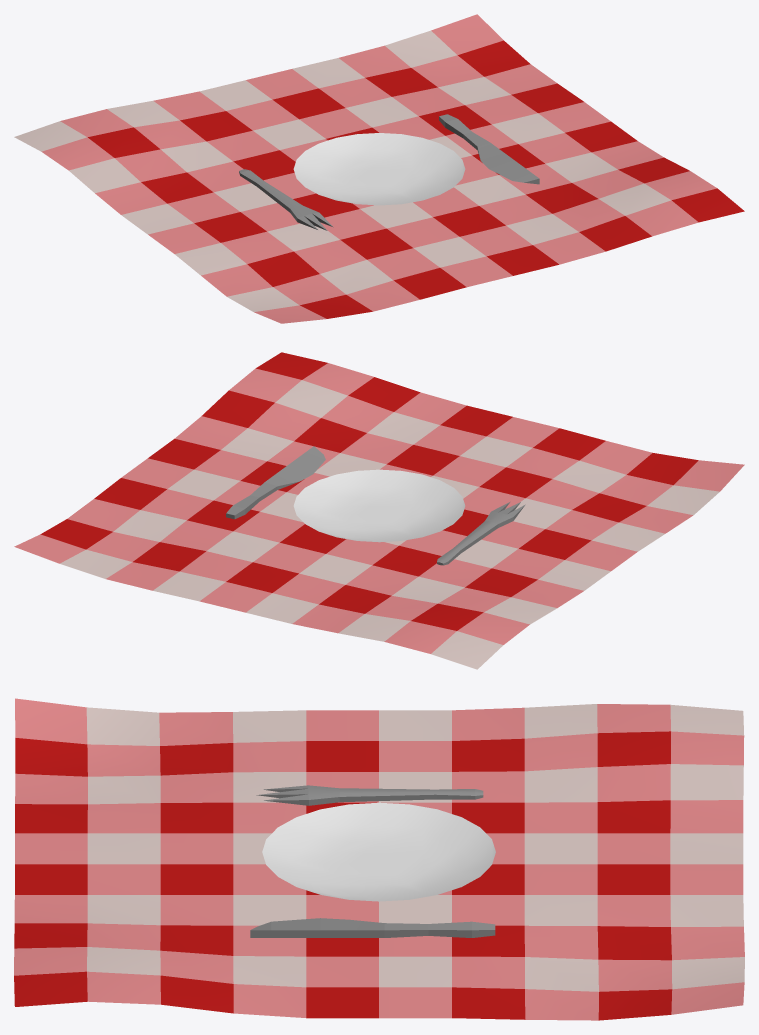
File: 001_Picnic_Red_001.fbx
3 views of the same model, one above another, from view 1: azimuth 30°, elevation 25°; view 2: azimuth 150°, elevation 25°; view 3: azimuth 270°, elevation 25° (orthographic). The views are drawn at different scales.
Visible parts, largest first — view 1: pDisc2; view 2: pDisc2; view 3: pDisc2.
Part boxes in pixels (bbox=[...]): pDisc2: bbox=[14, 14, 744, 323]; pDisc2: bbox=[14, 352, 744, 669]; pDisc2: bbox=[14, 698, 744, 1020].
Size of the model in its own units: 36.54 by 1.21 by 36.51.
